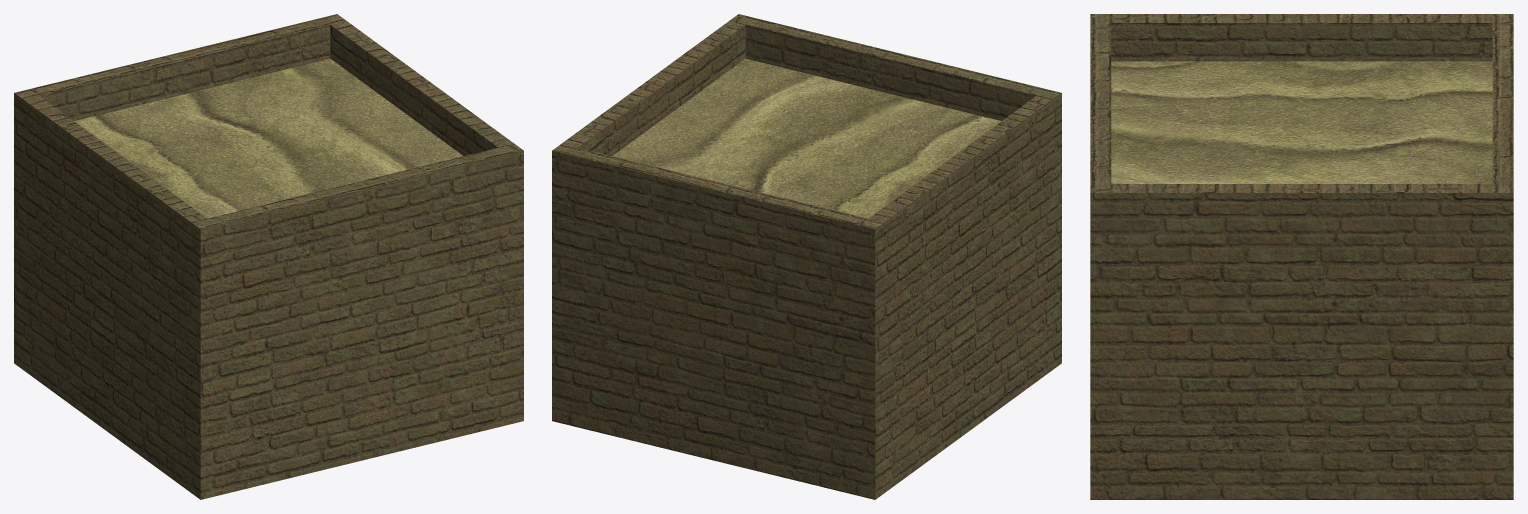
Rendered from Sandbag_Box.glb.
The picture shows the model from 3 angles, left to right: view 1: azimuth 30°, elevation 25°; view 2: azimuth 150°, elevation 25°; view 3: azimuth 270°, elevation 25°; orthographic projection. The views are drawn at different scales.
Visible parts, largest first — view 1: Cube; view 2: Cube; view 3: Cube.
Boxes of the visible parts, x1,y1,x2,y2 form: Cube: [14, 14, 523, 499]; Cube: [552, 14, 1061, 499]; Cube: [1090, 14, 1513, 499].
Size of the model in its own units: 1 by 0.8 by 1.
Materials: 2 (2 with a texture image).
